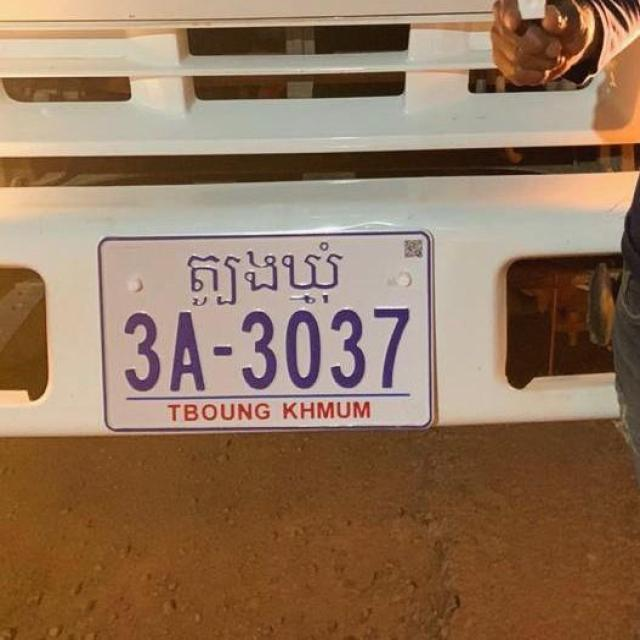Tboung_Khmum: (172, 239, 356, 310)
